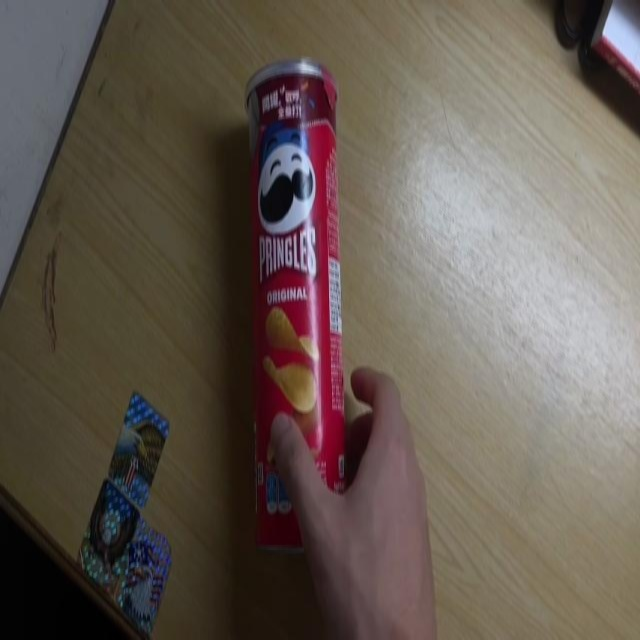Pringles: (245, 52, 346, 558)
